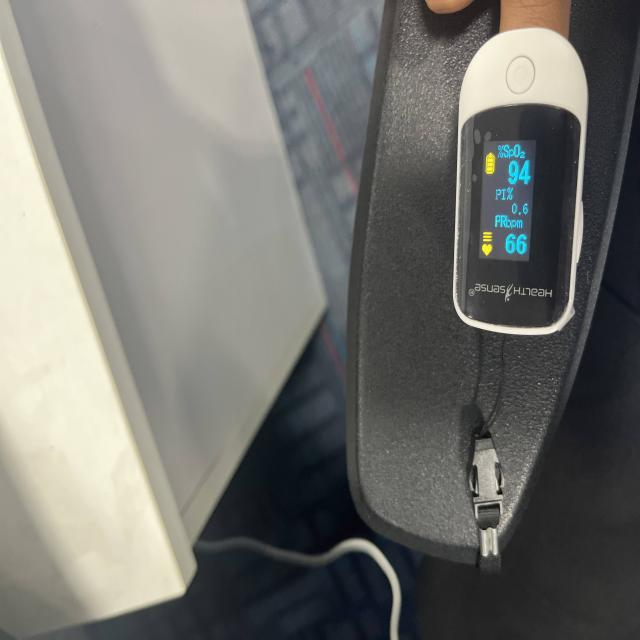spo2: (347, 24, 592, 575)
